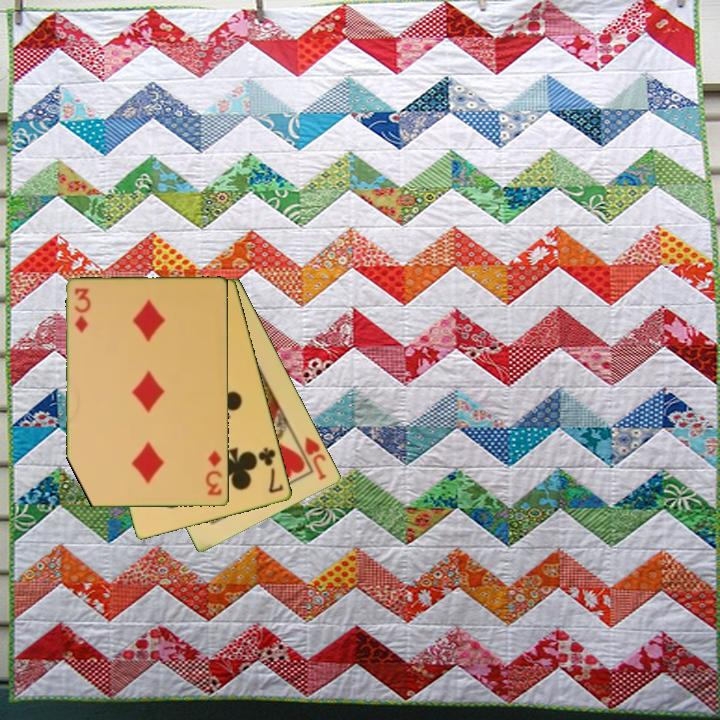3d: (203, 447, 225, 498), (71, 285, 92, 336)
7c: (255, 444, 287, 496)
Jh: (301, 433, 330, 483)
